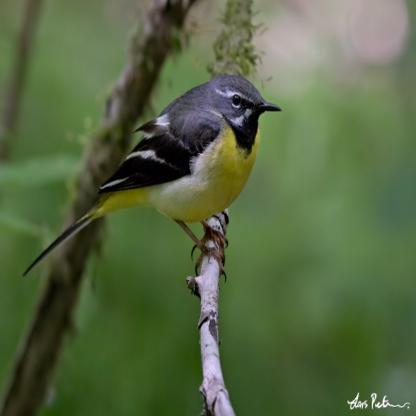Burung: (22, 74, 280, 278)
